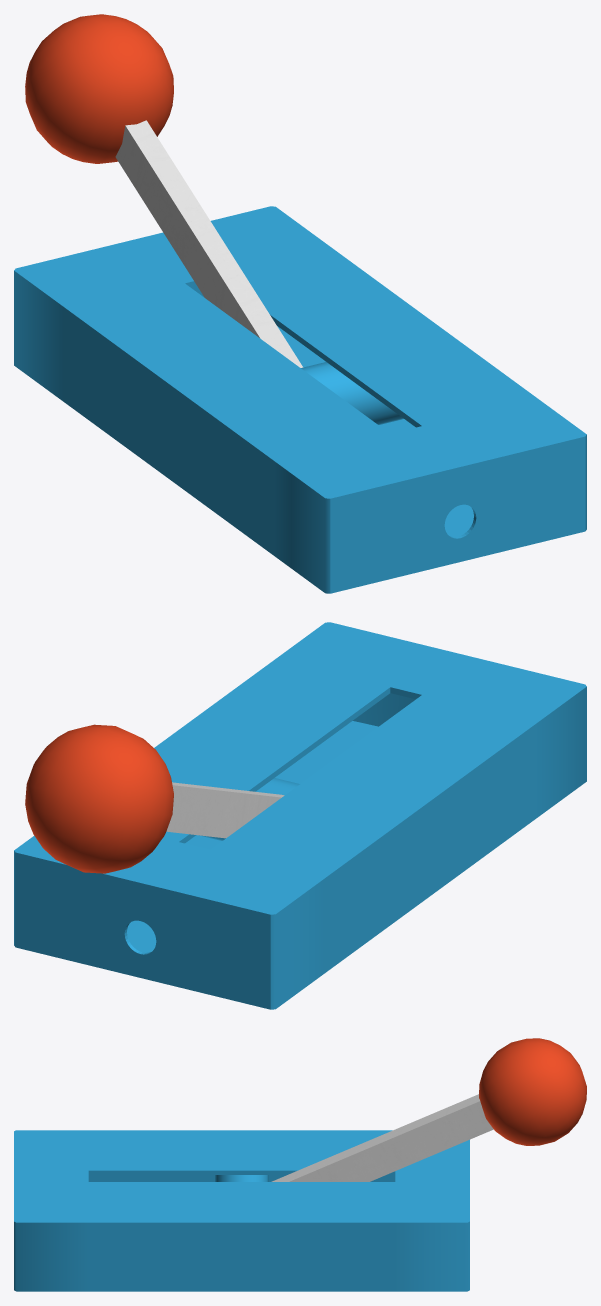
Rendered from switch.fbx.
3 views of the same model, one above another, from view 1: azimuth 30°, elevation 25°; view 2: azimuth 150°, elevation 25°; view 3: azimuth 270°, elevation 25° (orthographic). The views are drawn at different scales.
Visible parts, largest first — view 1: switch, switch.001; view 2: switch, switch.001; view 3: switch, switch.001.
Boxes of the visible parts, <box> form: switch: <box>14,206,586,593</box>; switch.001: <box>25,14,403,424</box>; switch: <box>14,622,586,1009</box>; switch.001: <box>25,724,299,873</box>; switch: <box>14,1130,469,1291</box>; switch.001: <box>215,1038,586,1181</box>.
Bounding box in the file's own units: 11.53 × 11.74 × 30.17.
1 material, 1 textured.
